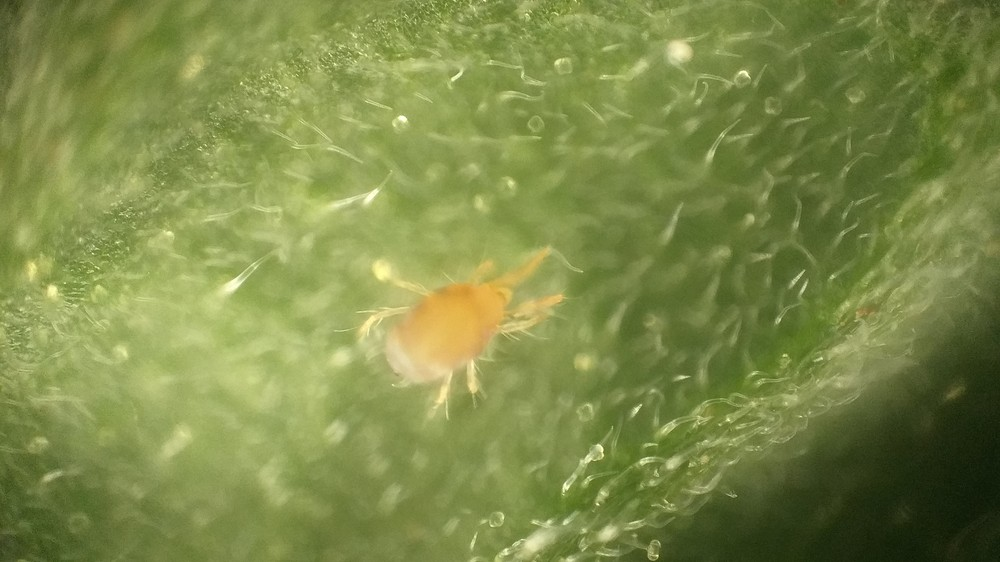Aracnido Rojo: (340, 240, 593, 416)
